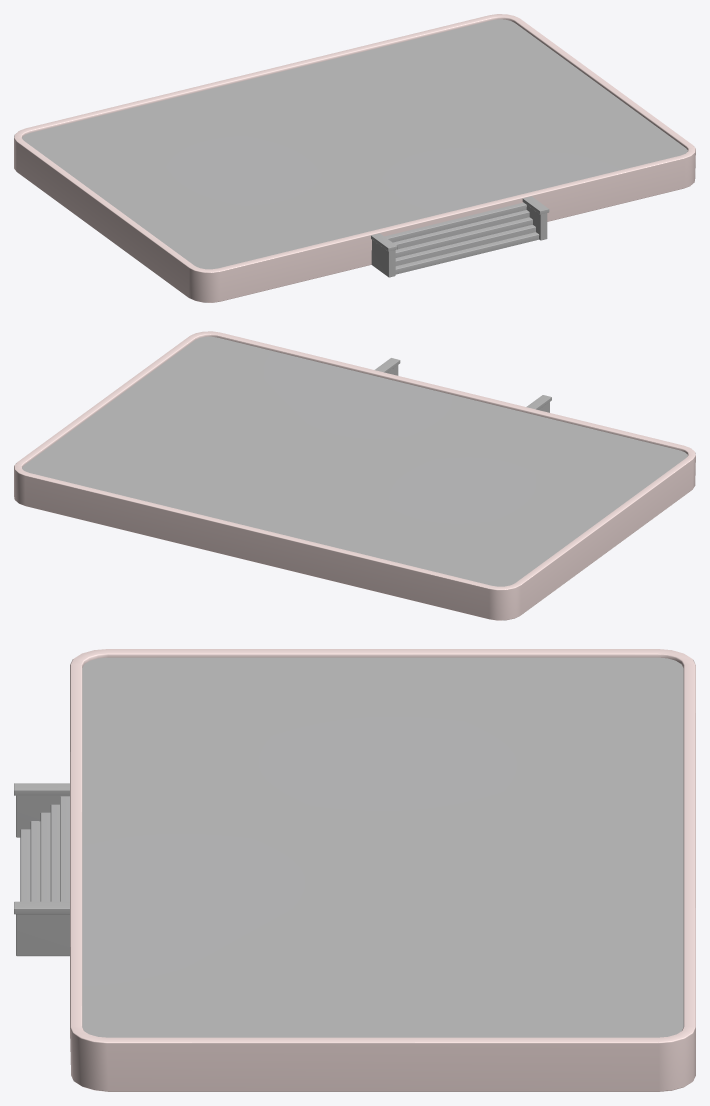
The model's file is Public_4_Base_1.glb.
3 views of the same model, one above another, from view 1: azimuth 30°, elevation 25°; view 2: azimuth 150°, elevation 25°; view 3: azimuth 270°, elevation 25° (orthographic). The views are drawn at different scales.
Parts seen in each view (by area): view 1: Public_4_Base_1; view 2: Public_4_Base_1; view 3: Public_4_Base_1.
Part boxes in pixels (bbox=[...]): Public_4_Base_1: bbox=[14, 14, 695, 302]; Public_4_Base_1: bbox=[14, 331, 695, 620]; Public_4_Base_1: bbox=[14, 649, 695, 1091].
Bounding box in the file's own units: 22.46 × 1.33 × 16.43.
1 material, 1 textured.
